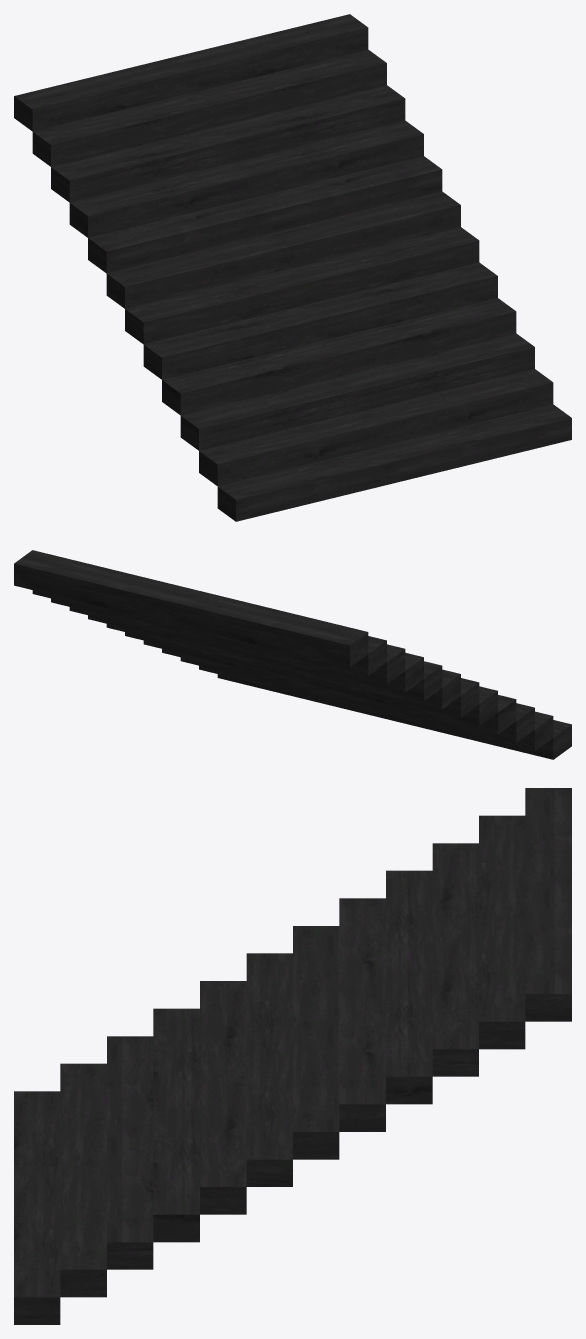
Rendered from Soupstairs002.glb.
3 views of the same model, one above another, from view 1: azimuth 30°, elevation 25°; view 2: azimuth 150°, elevation 25°; view 3: azimuth 270°, elevation 25° (orthographic). The views are drawn at different scales.
Parts seen in each view (by area): view 1: Soupstairs002_high_1; view 2: Soupstairs002_high_1; view 3: Soupstairs002_high_1.
Boxes of the visible parts, box(x1,y1,x2,y2) form: Soupstairs002_high_1: box(14, 14, 571, 521); Soupstairs002_high_1: box(14, 550, 571, 759); Soupstairs002_high_1: box(14, 788, 571, 1324).
Bounding box in the file's own units: 2.25 × 1.69 × 2.58.
1 material, 1 textured.
